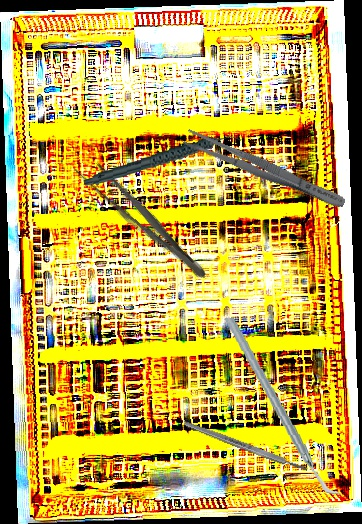Chopper: (224, 307, 342, 506)
Dressing Forceps: (69, 151, 216, 287), (181, 126, 349, 214)
Handpiece: (81, 133, 244, 187)
Scalpel Handle: (183, 419, 309, 474)
